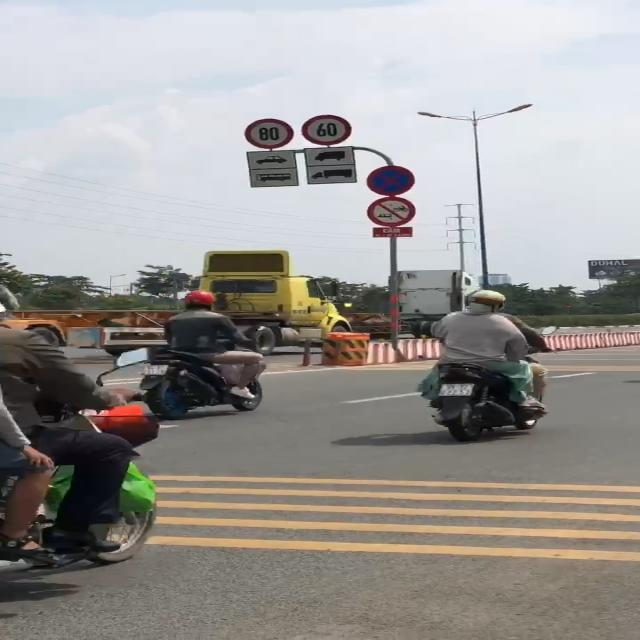Bien bao cam dung xe va do xe: (362, 166, 419, 195)
Bien bao toc do toi da cho phep: (295, 112, 353, 147), (241, 117, 296, 149)
